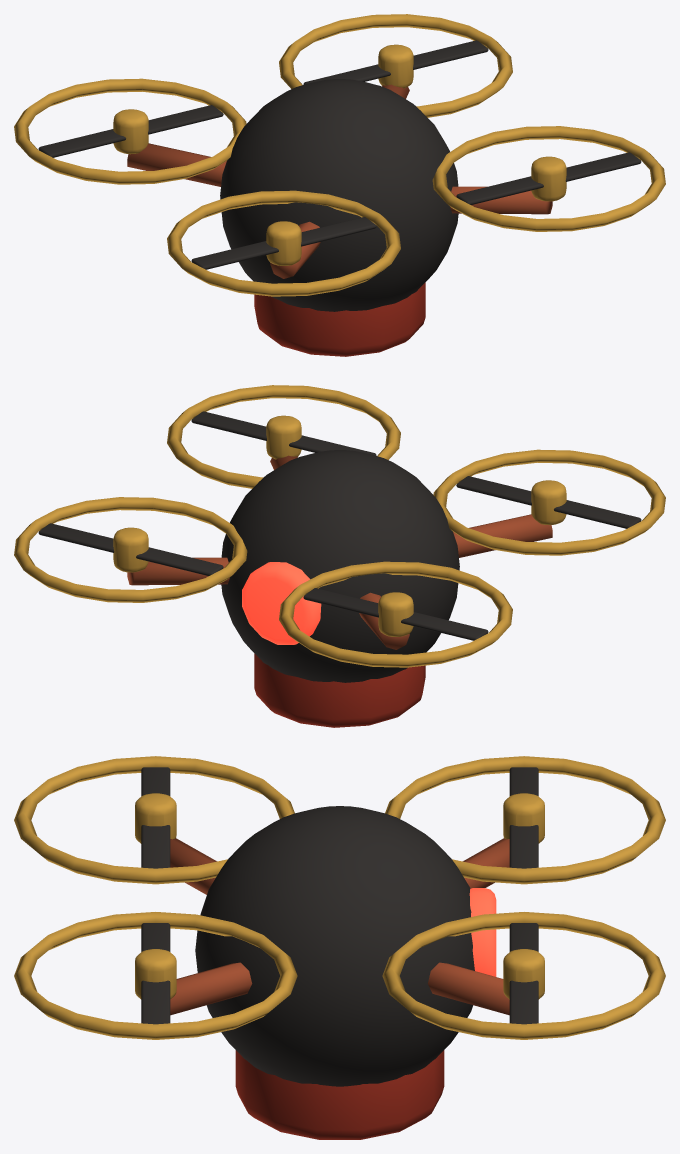
File: drone.glb
The picture shows the model from 3 angles, top to bottom: view 1: azimuth 30°, elevation 25°; view 2: azimuth 150°, elevation 25°; view 3: azimuth 270°, elevation 25°; orthographic projection. The views are drawn at different scales.
Visible parts, largest first — view 1: core, belly, guard3, guard2, guard1, guard0, blade1, blade2, blade3, arm1, blade0, arm3 (+5 smaller); view 2: core, belly, guard0, guard1, guard2, guard3, eye, blade1, blade2, blade0, arm2, blade3 (+6 smaller); view 3: core, belly, guard0, guard3, guard1, guard2, arm0, arm3, blade1, blade2, blade0, blade3 (+7 smaller).
Boxes of the visible parts, x1,y1,x2,y2 form: core: (220, 79, 458, 311); belly: (254, 282, 425, 356); guard3: (432, 126, 665, 231); guard2: (167, 190, 400, 296); guard1: (14, 78, 246, 184); guard0: (279, 14, 512, 117); blade1: (38, 105, 223, 157); blade2: (191, 217, 376, 269); blade3: (456, 152, 641, 204); arm1: (127, 143, 226, 186); blade0: (303, 40, 488, 84); arm3: (450, 186, 552, 214); core: (221, 450, 459, 682); belly: (254, 653, 425, 727); guard0: (14, 497, 247, 602); guard1: (279, 561, 512, 667); guard2: (433, 449, 665, 555); guard3: (167, 385, 400, 488); eye: (242, 562, 321, 644); blade1: (303, 588, 488, 640); blade2: (456, 476, 641, 528); blade0: (38, 523, 223, 575); arm2: (453, 514, 552, 557); blade3: (191, 411, 376, 455); core: (195, 806, 474, 1086); belly: (235, 1050, 444, 1139); guard0: (382, 912, 665, 1039); guard3: (14, 912, 297, 1039); guard1: (385, 756, 665, 884); guard2: (14, 756, 294, 884); arm0: (427, 962, 509, 1015); arm3: (170, 962, 252, 1015); blade1: (509, 767, 538, 868); blade2: (141, 767, 170, 868); blade0: (509, 923, 538, 1024); blade3: (141, 923, 170, 1024).
Size of the model in its own units: 1.13 by 0.54 by 1.13.
